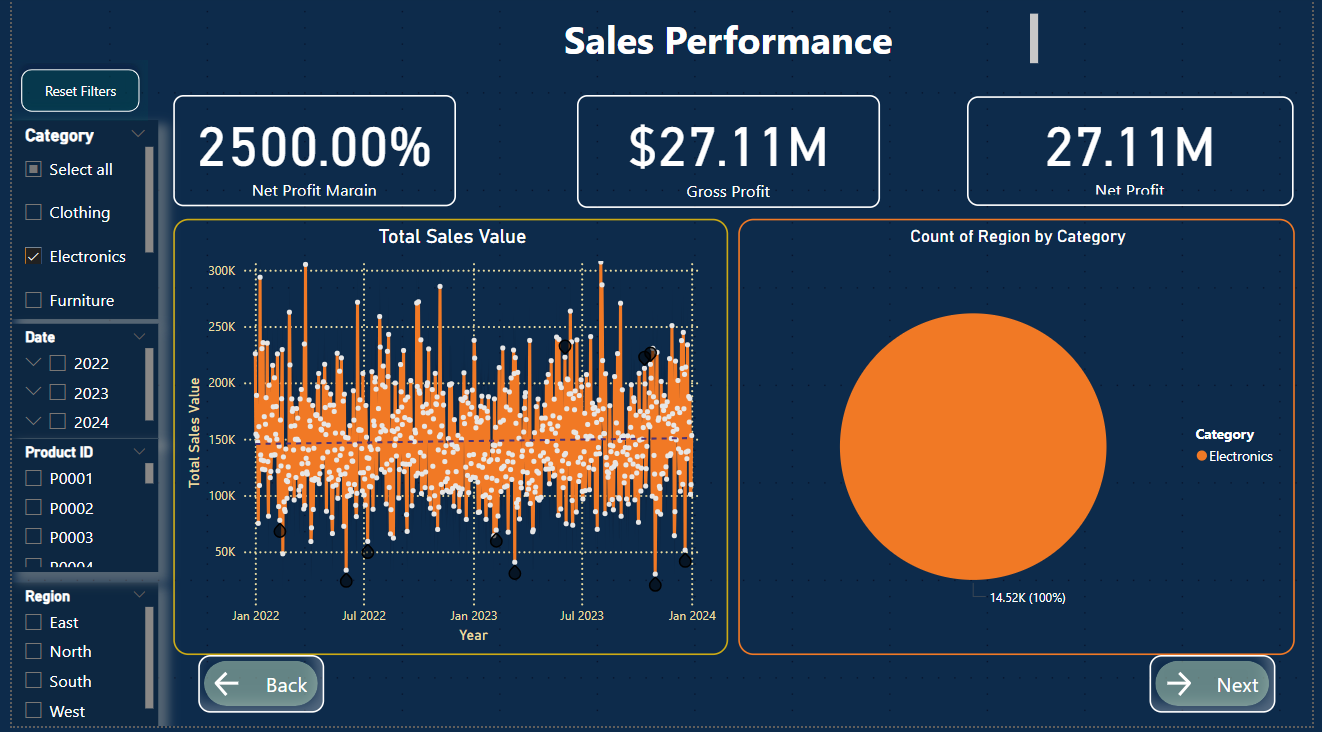

Layout of this report page (visuals, bound fields, positions):
{"tool":"powerbi","page":{"name":"Sales Performance Overview","canvas":[1280,720],"ordinal":2},"visuals":[{"type":"lineChart","title":"Total Sales Value","fields":{"Category":["Retail_updateddata.Date.Variation.Date Hierarchy.Year","Retail_updateddata.Date.Variation.Date Hierarchy.Month","Retail_updateddata.Date.Variation.Date Hierarchy.Day"],"Y":["Retail_updateddata.Total Sales Value"]},"box":[158.8,220.3,546.5,429.5],"z":0},{"type":"slicer","fields":{"Values":["Retail_updateddata.Category"]},"box":[0,123.5,144.3,195.7],"z":1000},{"type":"slicer","fields":{"Values":["Retail_updateddata.Date.Variation.Date Hierarchy.Year","Retail_updateddata.Date.Variation.Date Hierarchy.Month","Retail_updateddata.Date.Variation.Date Hierarchy.Day"]},"box":[0,324.1,144.3,112.5],"z":2000},{"type":"slicer","fields":{"Values":["Retail_updateddata.Region"]},"box":[0,578.5,144.3,141.4],"z":3000},{"type":"slicer","fields":{"Values":["Retail_updateddata.Product ID"]},"box":[0,437.2,144.3,131.3],"z":4000},{"type":"pieChart","fields":{"Category":["Retail_updateddata.Category"],"Y":["CountNonNull(Retail_updateddata.Region)"]},"box":[715.1,220.3,547.7,429.5],"z":5000},{"type":"textbox","box":[414.1,13,601.6,59.2],"z":6000},{"type":"card","fields":{"Values":["Retail_updateddata.Net Profit Margin"]},"box":[158.7,98.1,278.5,109.6],"z":7000},{"type":"card","fields":{"Values":["Retail_updateddata.Net Profit"]},"box":[940.7,99.6,321.7,108.2],"z":8000},{"type":"card","fields":{"Values":["Retail_updateddata.Gross Profit"]},"box":[556.9,98.1,298.7,111.1],"z":9000},{"type":"actionButton","box":[1120,649.8,124.3,56.6],"z":10000},{"type":"actionButton","box":[0,63.6,134.5,59.9],"z":11000},{"type":"actionButton","box":[183.4,649.8,124.3,56.6],"z":12000}]}

Visuals, with their boxes in screenshot pixels (x1, y1, x2, y2), scaled from the page's 1280x720 canvas onto the 1322x732 screenshot:
"Total Sales Value" lineChart: [x1=164, y1=224, x2=728, y2=661]
slicer - Retail_updateddata.Category: [x1=0, y1=126, x2=149, y2=325]
slicer - Retail_updateddata.Date.Variation.Date Hierarchy.Year x Retail_updateddata.Date.Variation.Date Hierarchy.Month: [x1=0, y1=330, x2=149, y2=444]
slicer - Retail_updateddata.Region: [x1=0, y1=588, x2=149, y2=731]
slicer - Retail_updateddata.Product ID: [x1=0, y1=444, x2=149, y2=578]
pieChart - Retail_updateddata.Category x CountNonNull(Retail_updateddata.Region): [x1=739, y1=224, x2=1304, y2=661]
textbox: [x1=428, y1=13, x2=1049, y2=73]
card - Retail_updateddata.Net Profit Margin: [x1=164, y1=100, x2=452, y2=211]
card - Retail_updateddata.Net Profit: [x1=972, y1=101, x2=1304, y2=211]
card - Retail_updateddata.Gross Profit: [x1=575, y1=100, x2=884, y2=213]
actionButton: [x1=1157, y1=661, x2=1285, y2=718]
actionButton: [x1=0, y1=65, x2=139, y2=126]
actionButton: [x1=189, y1=661, x2=318, y2=718]
